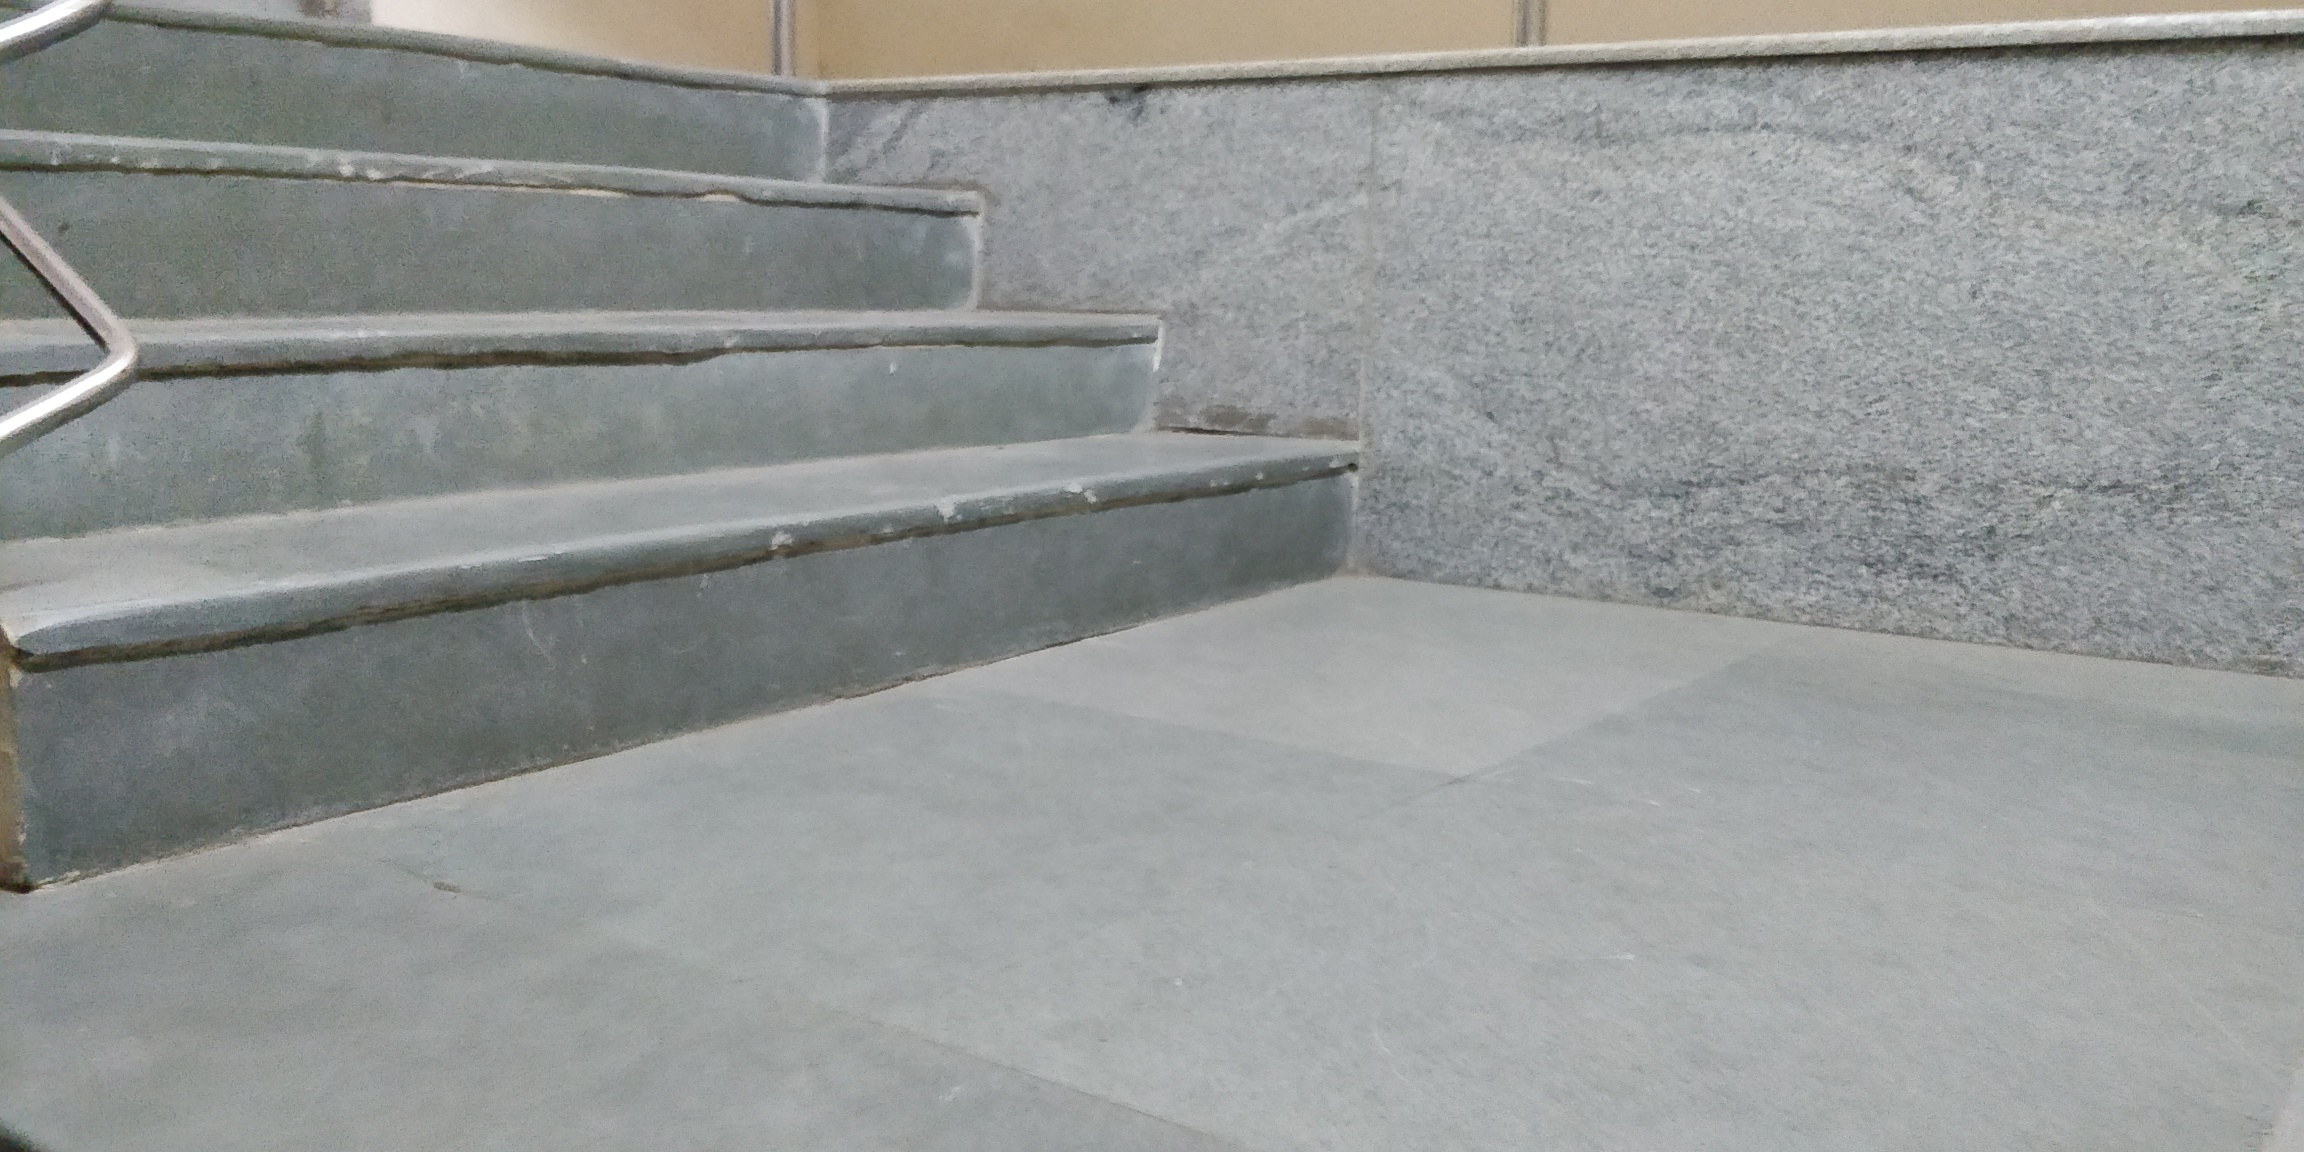stairs_up: (7, 3, 1364, 741)
